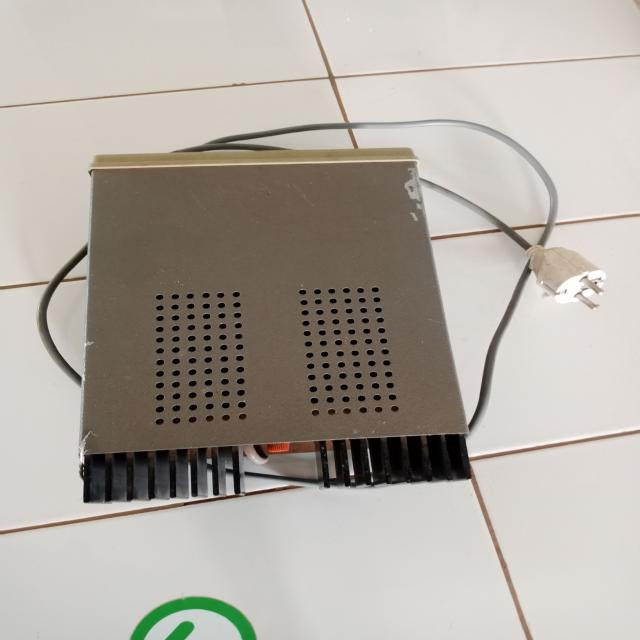Digital Power Supply: (60, 142, 482, 504)
